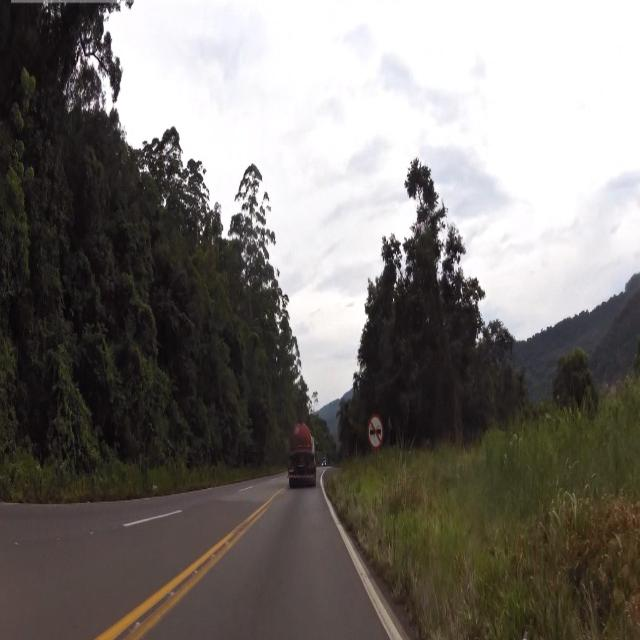R-7: (368, 409, 386, 455)
